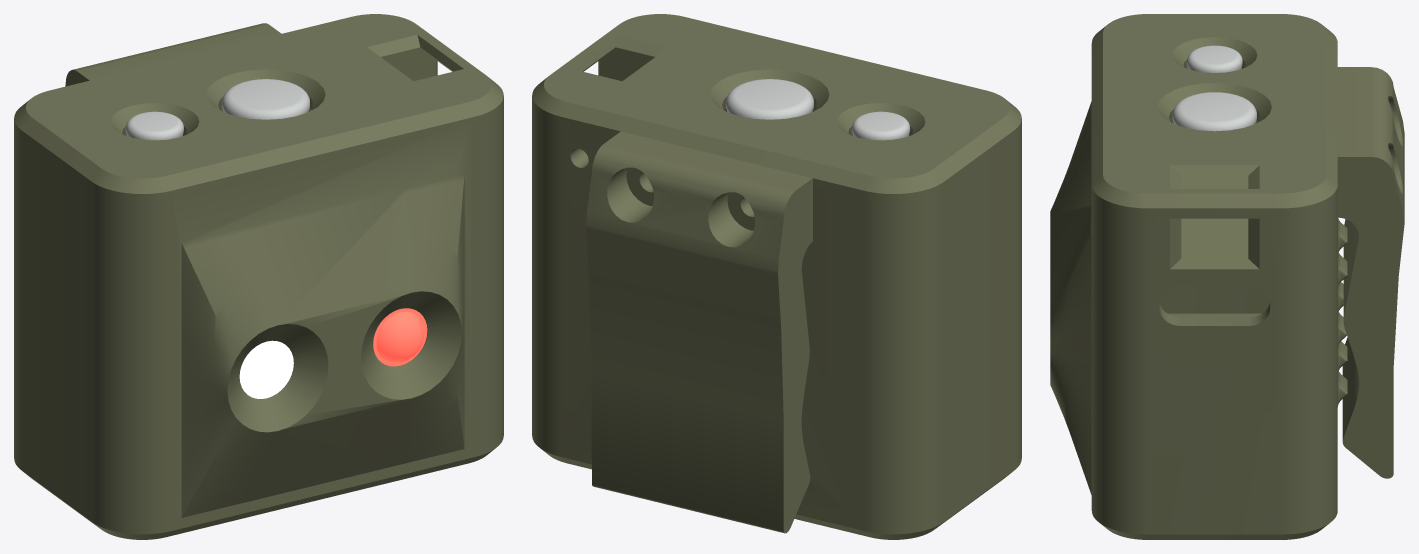
The model's file is ci-clop-mark.parts.glb.
The picture shows the model from 3 angles, left to right: view 1: azimuth 30°, elevation 25°; view 2: azimuth 150°, elevation 25°; view 3: azimuth 270°, elevation 25°; orthographic projection. The views are drawn at different scales.
Parts seen in each view (by area): view 1: body, lid, clip, cap-1, led-red, led-white, cap-0; view 2: body, clip, lid, cap-1, cap-0; view 3: body, clip, lid, cap-1, cap-0.
Boxes of the visible parts, x1,y1,x2,y2 form: body: (14, 14, 503, 523); lid: (14, 425, 503, 539); clip: (65, 23, 281, 86); cap-1: (222, 79, 309, 119); led-red: (373, 308, 427, 366); led-white: (239, 340, 293, 398); cap-0: (125, 111, 183, 140); body: (532, 14, 1021, 523); clip: (586, 131, 812, 533); lid: (532, 425, 1021, 539); cap-1: (726, 79, 813, 119); cap-0: (852, 111, 910, 140); body: (1050, 14, 1347, 524); clip: (1337, 67, 1404, 478); lid: (1091, 313, 1337, 539); cap-1: (1172, 92, 1256, 131); cap-0: (1187, 45, 1242, 72).
Size of the model in its own units: 0.04 by 0.0342 by 0.0317.
